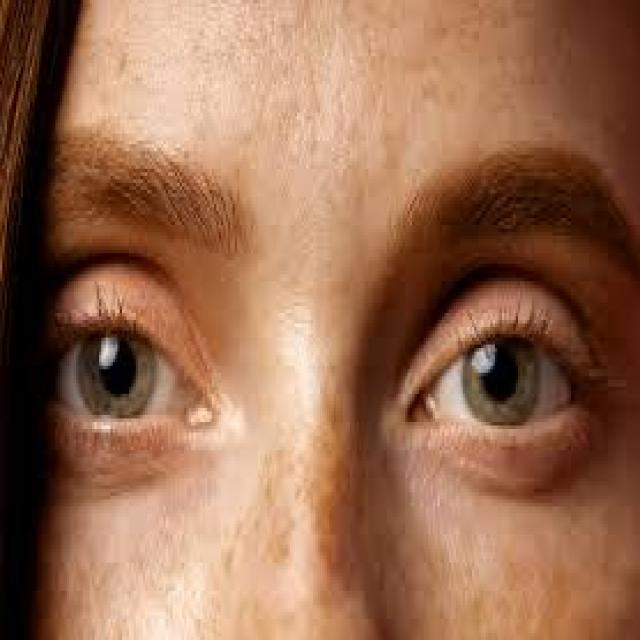Eyes-iris: (72, 322, 158, 426), (463, 323, 542, 434)
